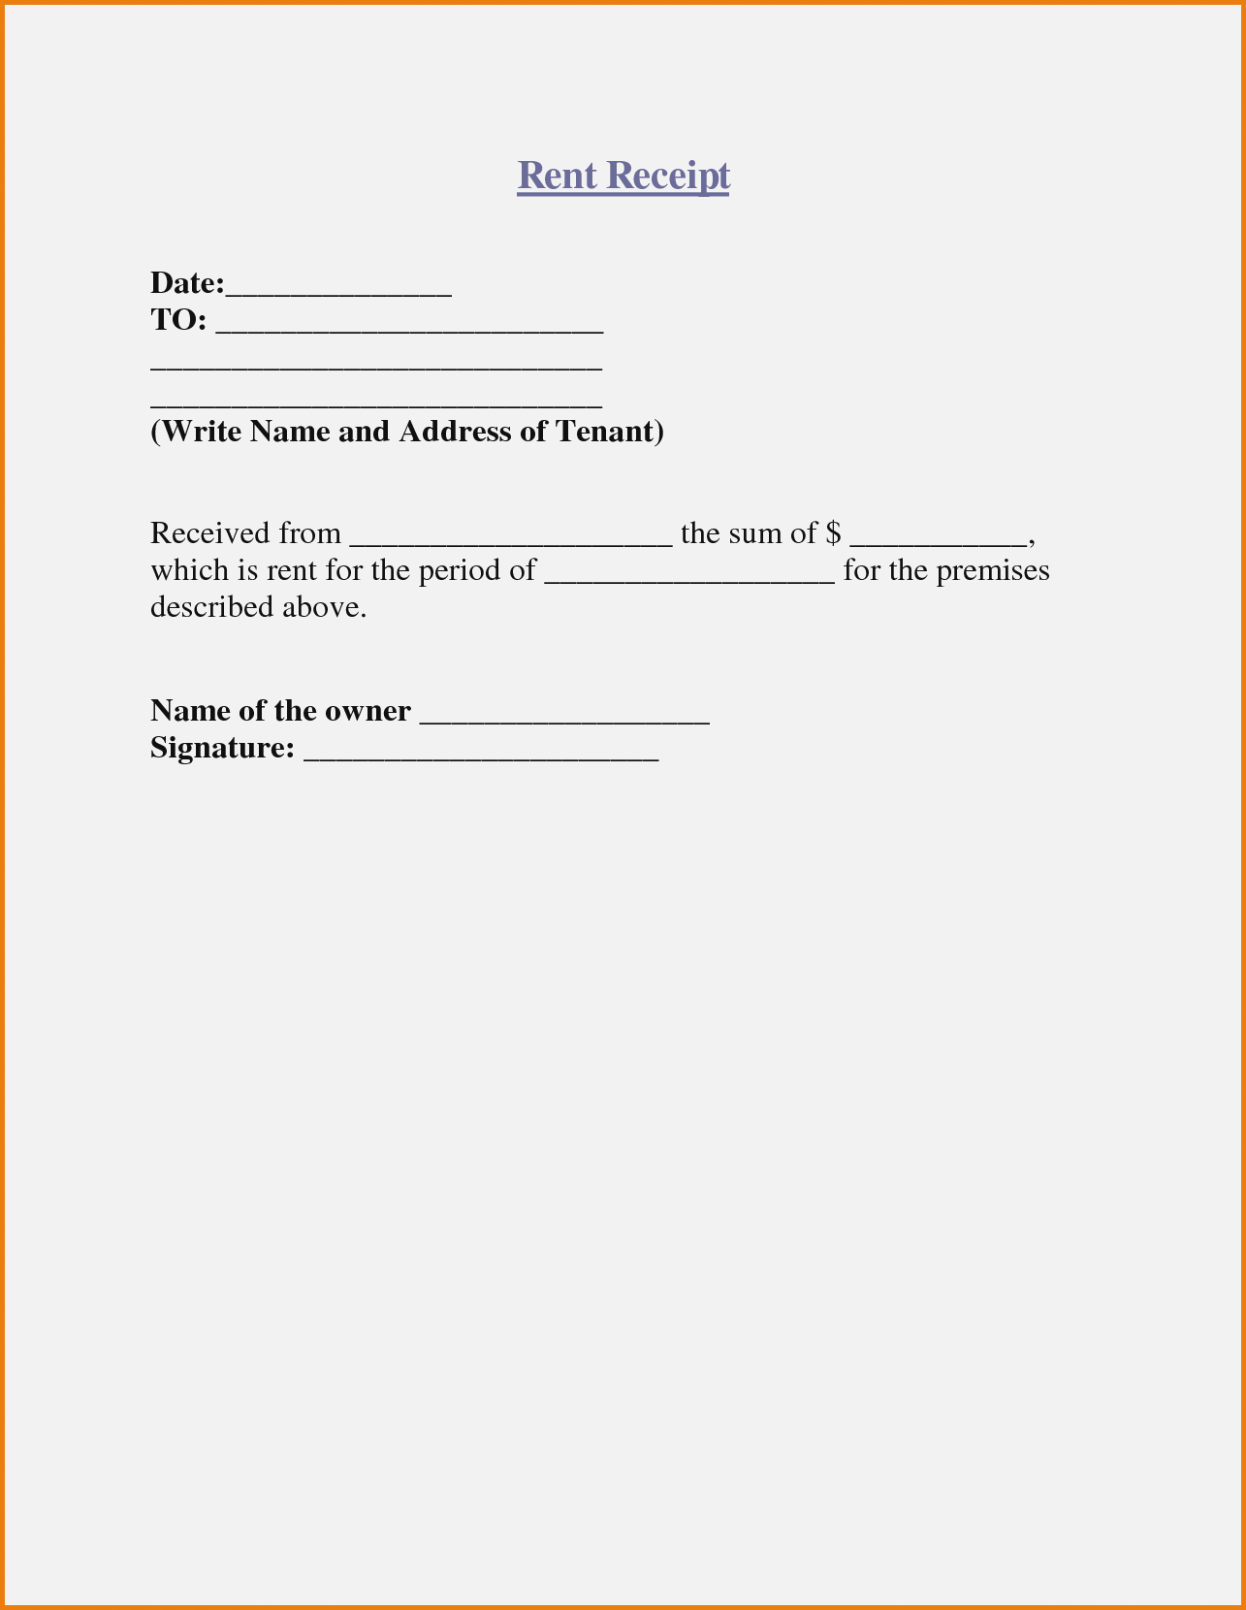textline: (305, 731, 673, 785), (348, 495, 675, 555), (146, 341, 618, 382), (146, 380, 617, 416), (217, 301, 613, 342), (420, 690, 713, 744), (543, 555, 845, 601), (225, 250, 460, 303), (849, 504, 1032, 561)
